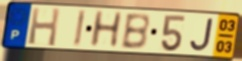5: (160, 14, 187, 53)
B: (119, 12, 152, 51)
H: (87, 10, 125, 49), (27, 6, 62, 48)
I: (72, 9, 88, 48)
J: (188, 17, 215, 53)
